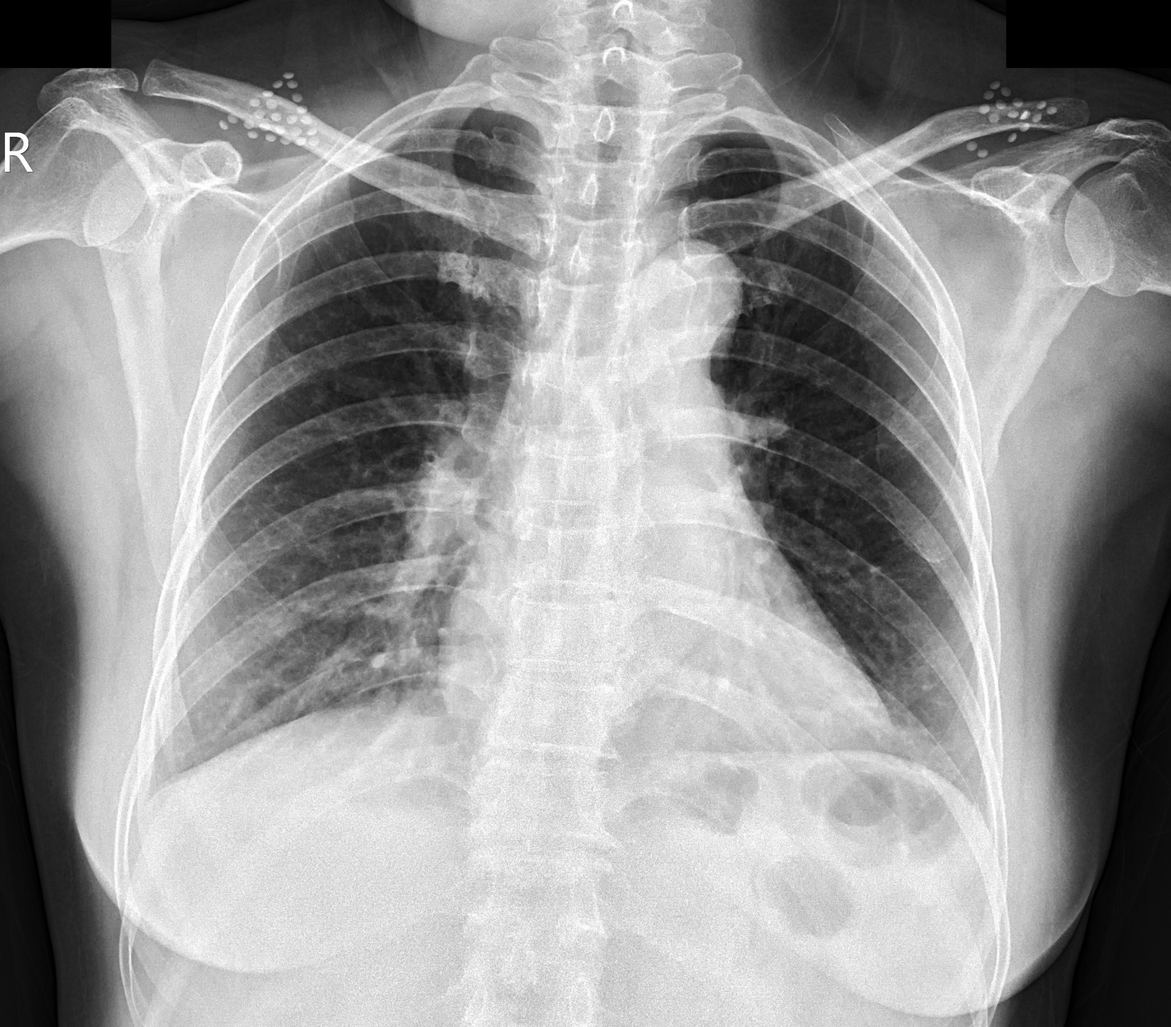Aortic enlargement: (618, 238, 746, 360)
Cardiomegaly: (401, 615, 918, 777)
